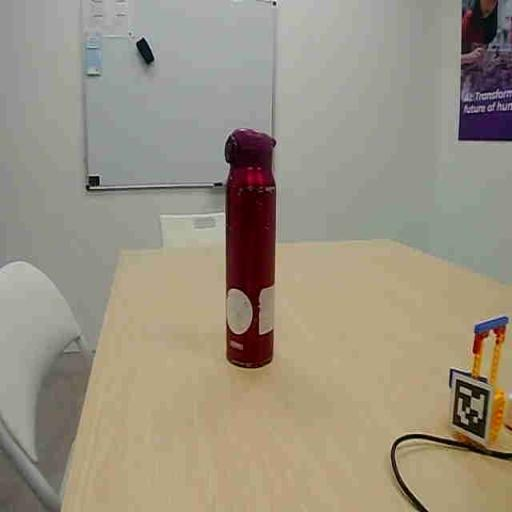bottle: (226, 130, 275, 367)
